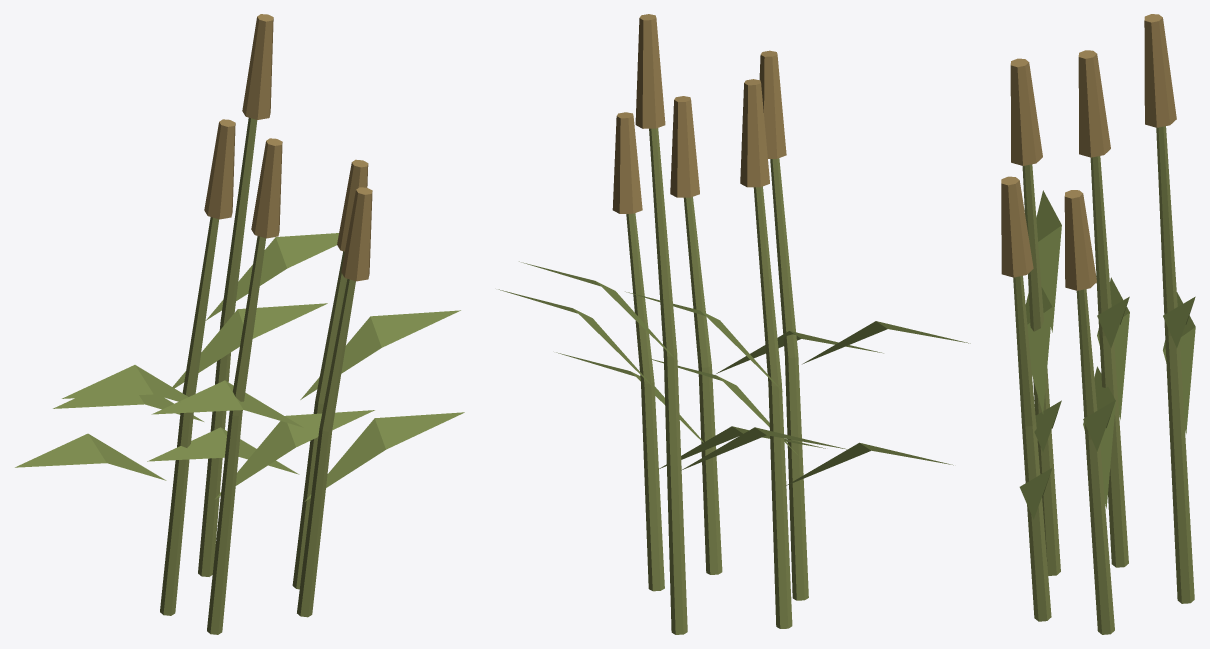
File: reed-clump.glb
3 renders of one model, left to right at view 1: azimuth 30°, elevation 25°; view 2: azimuth 150°, elevation 25°; view 3: azimuth 270°, elevation 25°, orthographic. The views are drawn at different scales.
Visible parts, largest first — view 1: gatherable reed clump; view 2: gatherable reed clump; view 3: gatherable reed clump.
Part boxes in pixels (bbox=[...]): gatherable reed clump: bbox=[15, 14, 464, 634]; gatherable reed clump: bbox=[498, 14, 970, 634]; gatherable reed clump: bbox=[1001, 14, 1195, 634].
Size of the model in its own units: 1.18 by 1.42 by 0.4132.
